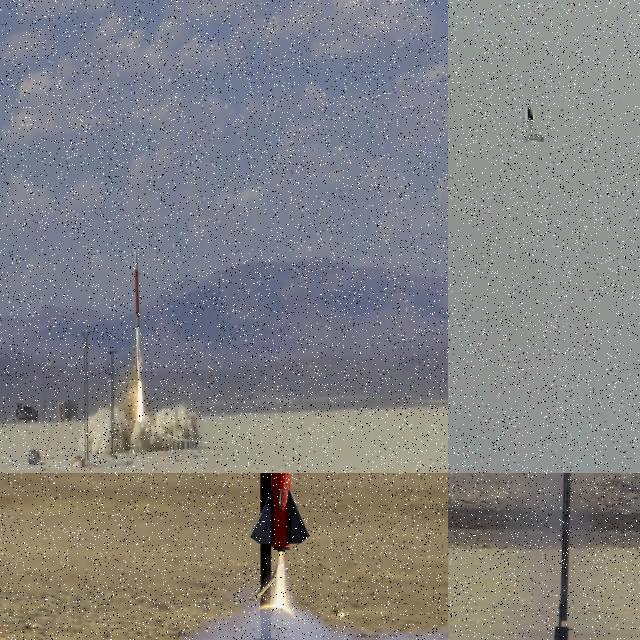Rocket: (248, 473, 309, 553), (133, 249, 143, 389), (522, 104, 546, 142)
